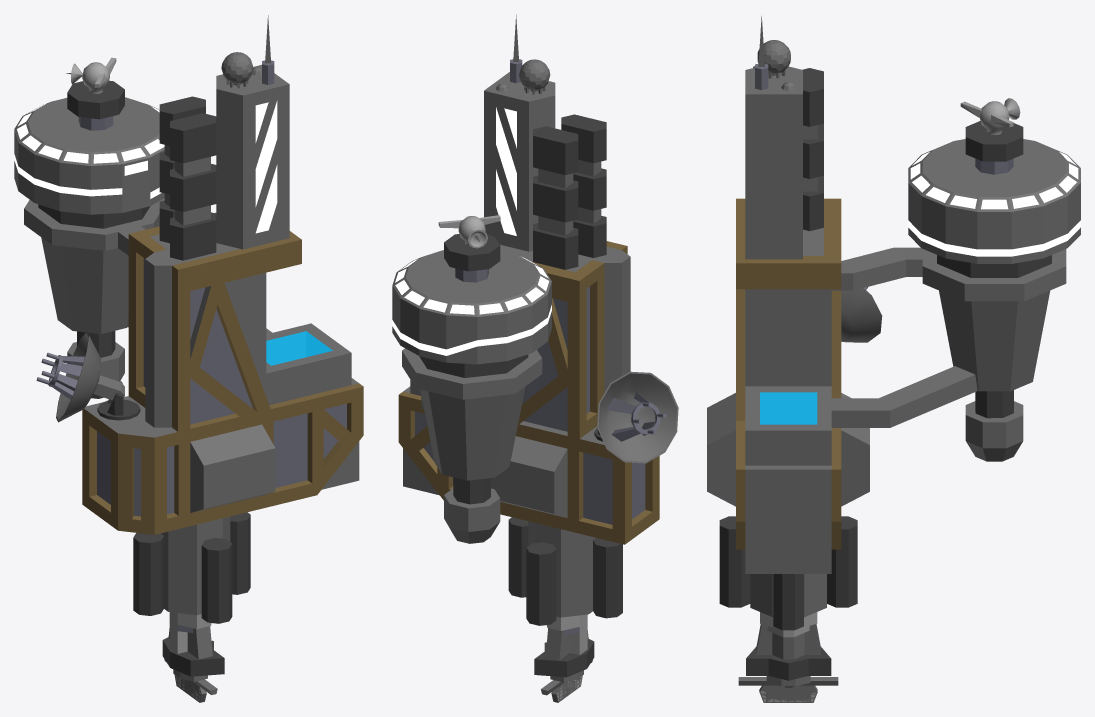
The model's file is CommerceHub.fbx.
The picture shows the model from 3 angles, left to right: view 1: azimuth 30°, elevation 25°; view 2: azimuth 150°, elevation 25°; view 3: azimuth 270°, elevation 25°; orthographic projection. The views are drawn at different scales.
Parts seen in each view (by area): view 1: Commerce Hub; view 2: Commerce Hub; view 3: Commerce Hub.
Part boxes in pixels (x1,y1,x2,y2): Commerce Hub: (14,15,363,702); Commerce Hub: (392,14,678,702); Commerce Hub: (707,16,1080,702).
Size of the model in its own units: 1767 by 4153 by 1949.
